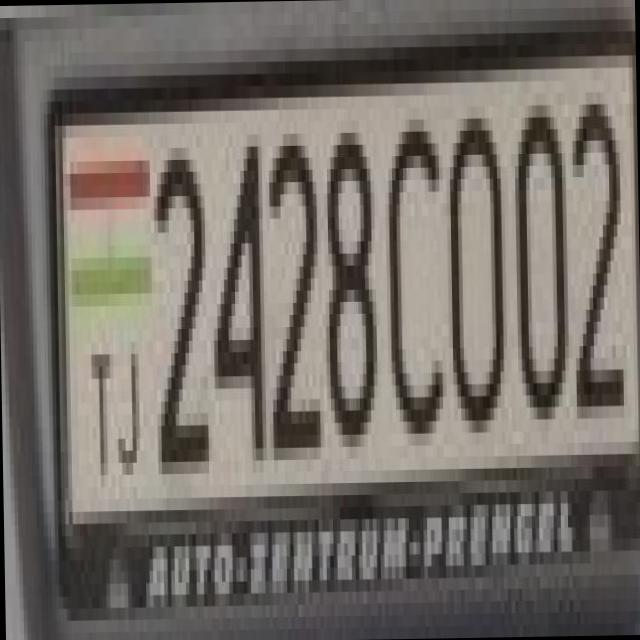0: (437, 82, 501, 420), (506, 80, 562, 420)
2: (260, 109, 320, 448), (148, 123, 208, 462), (564, 79, 624, 406)
4: (206, 110, 263, 448)
8: (310, 96, 382, 434)
C: (376, 94, 444, 422)
